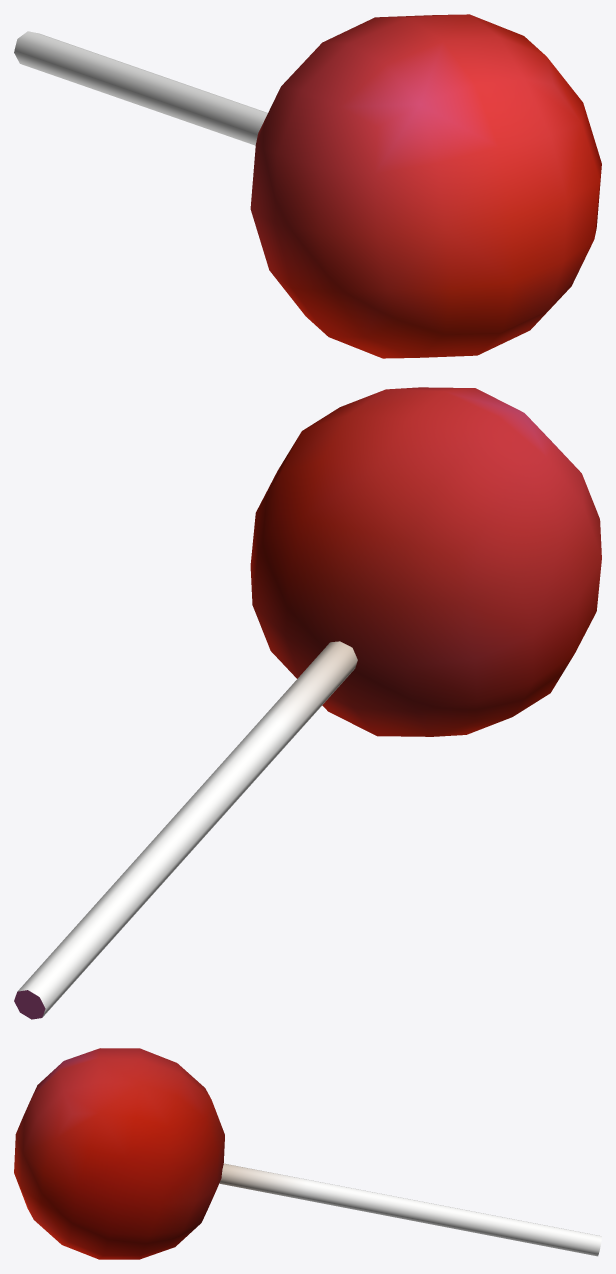
The model's file is Lollipop_Round.fbx.
The picture shows the model from 3 angles, top to bottom: view 1: azimuth 30°, elevation 25°; view 2: azimuth 150°, elevation 25°; view 3: azimuth 270°, elevation 25°; orthographic projection. The views are drawn at different scales.
Visible parts, largest first — view 1: Lollipop_Round; view 2: Lollipop_Round; view 3: Lollipop_Round.
Part boxes in pixels (x1=…): Lollipop_Round: x1=14, y1=14, x2=601, y2=358; Lollipop_Round: x1=14, y1=387, x2=601, y2=1019; Lollipop_Round: x1=14, y1=1048, x2=601, y2=1259.
Bounding box in the file's own units: 13.09 × 13.47 × 36.3.
